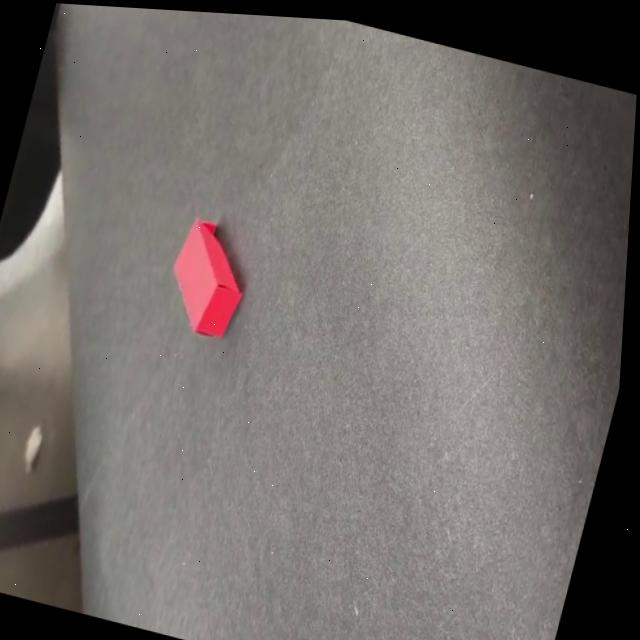red block: (156, 213, 260, 345)
